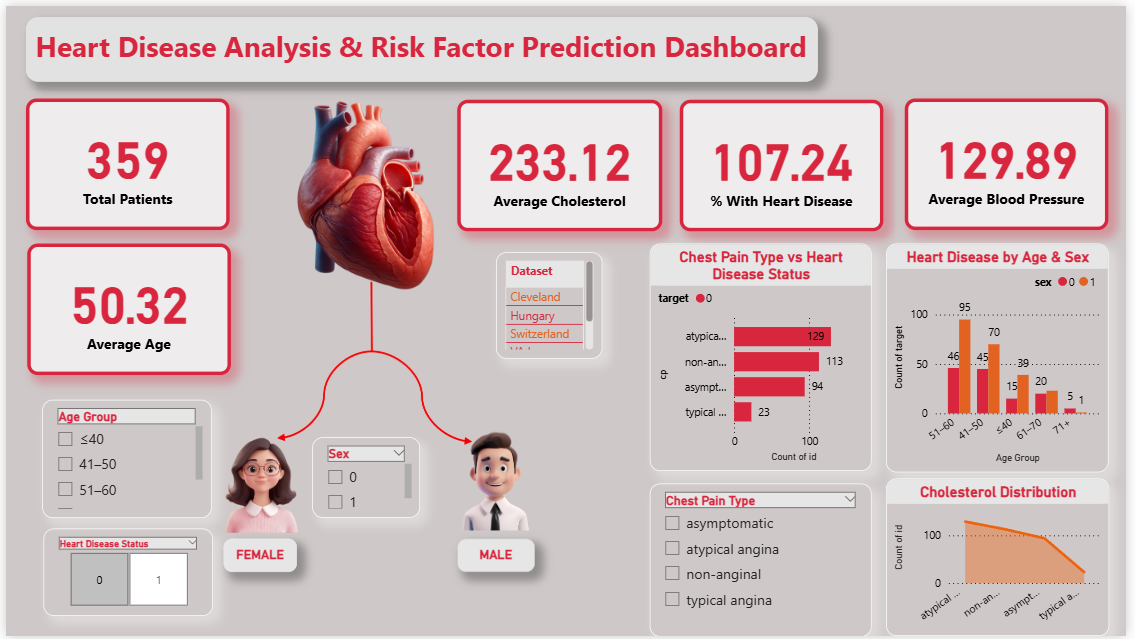

This screenshot's page, from the dashboard's own definition file:
{"tool":"powerbi","page":{"name":"Page 1","canvas":[1280,720],"ordinal":0},"visuals":[{"type":"textbox","box":[23.3,13.3,905,73.3],"z":0},{"type":"card","fields":{"Values":["CountNonNull(cleaned_heart_disease.id)"]},"box":[22.9,105.7,232.9,150],"z":1000},{"type":"card","fields":{"Values":["cleaned_heart_disease.% With Heart Disease"]},"box":[770,107.1,232.9,150],"z":2000},{"type":"card","fields":{"Values":["Avg(cleaned_heart_disease.age)"]},"box":[24.3,271.4,232.9,150],"z":3000},{"type":"card","fields":{"Values":["Avg(cleaned_heart_disease.chol)"]},"box":[515.7,107.1,234.3,150],"z":4000},{"type":"card","fields":{"Values":["Avg(cleaned_heart_disease.trestbps)"]},"box":[1027.1,105.7,232.9,150],"z":5000},{"type":"image","box":[291.4,90,250,255.7],"z":6000},{"type":"image","box":[235,243.3,351.7,353.3],"z":7000},{"type":"image","box":[493.3,478.3,133.3,128.3],"z":8000},{"type":"image","box":[216.7,480,150,128.3],"z":9000},{"type":"textbox","box":[515.7,608.6,88.6,38.6],"z":10000},{"type":"textbox","box":[248.6,608.6,84.3,38.6],"z":11000},{"type":"clusteredColumnChart","title":"Heart Disease by Age & Sex","fields":{"Category":["cleaned_heart_disease.Age Group"],"Series":["cleaned_heart_disease.sex"],"Y":["CountNonNull(cleaned_heart_disease.target)"]},"box":[1005.7,271.4,254.3,261.4],"z":12000},{"type":"barChart","title":"Chest Pain Type vs Heart Disease Status","fields":{"Series":["cleaned_heart_disease.target"],"Category":["cleaned_heart_disease.cp"],"Y":["CountNonNull(cleaned_heart_disease.id)"]},"box":[735,271.7,253.3,260],"z":13000},{"type":"areaChart","title":"Cholesterol Distribution","fields":{"Category":["cleaned_heart_disease.cp"],"Y":["CountNonNull(cleaned_heart_disease.id)"]},"box":[1005,540,255,180],"z":13001},{"type":"slicer","fields":{"Values":["cleaned_heart_disease.Age Group"]},"box":[41.7,450,193.3,135],"z":13002},{"type":"slicer","fields":{"Values":["cleaned_heart_disease.cp"]},"box":[735,545,253.3,175],"z":13003},{"type":"slicer","fields":{"Values":["cleaned_heart_disease.target"]},"box":[43.3,596.7,193.3,100],"z":13004},{"type":"tableEx","fields":{"Values":["cleaned_heart_disease.dataset"]},"box":[560,281.4,121.4,121.4],"z":13005},{"type":"slicer","fields":{"Values":["cleaned_heart_disease.sex"]},"box":[350,493.3,123.3,91.7],"z":13006}]}

Visuals, with their boxes in screenshot pixels (x1, y1, x2, y2), scaled from the page's 1280x720 canvas onto the 1135x639 screenshot:
textbox: region(21, 12, 823, 77)
card - CountNonNull(cleaned_heart_disease.id): region(20, 94, 227, 227)
card - cleaned_heart_disease.% With Heart Disease: region(683, 95, 889, 228)
card - Avg(cleaned_heart_disease.age): region(22, 241, 228, 374)
card - Avg(cleaned_heart_disease.chol): region(457, 95, 665, 228)
card - Avg(cleaned_heart_disease.trestbps): region(911, 94, 1117, 227)
image: region(258, 80, 480, 307)
image: region(208, 216, 520, 529)
image: region(437, 424, 556, 538)
image: region(192, 426, 325, 540)
textbox: region(457, 540, 536, 574)
textbox: region(220, 540, 295, 574)
"Heart Disease by Age & Sex" clusteredColumnChart: region(892, 241, 1117, 473)
"Chest Pain Type vs Heart Disease Status" barChart: region(652, 241, 876, 472)
"Cholesterol Distribution" areaChart: region(891, 479, 1117, 638)
slicer - cleaned_heart_disease.Age Group: region(37, 399, 208, 519)
slicer - cleaned_heart_disease.cp: region(652, 484, 876, 638)
slicer - cleaned_heart_disease.target: region(38, 530, 210, 618)
tableEx - cleaned_heart_disease.dataset: region(497, 250, 604, 357)
slicer - cleaned_heart_disease.sex: region(310, 438, 420, 519)
